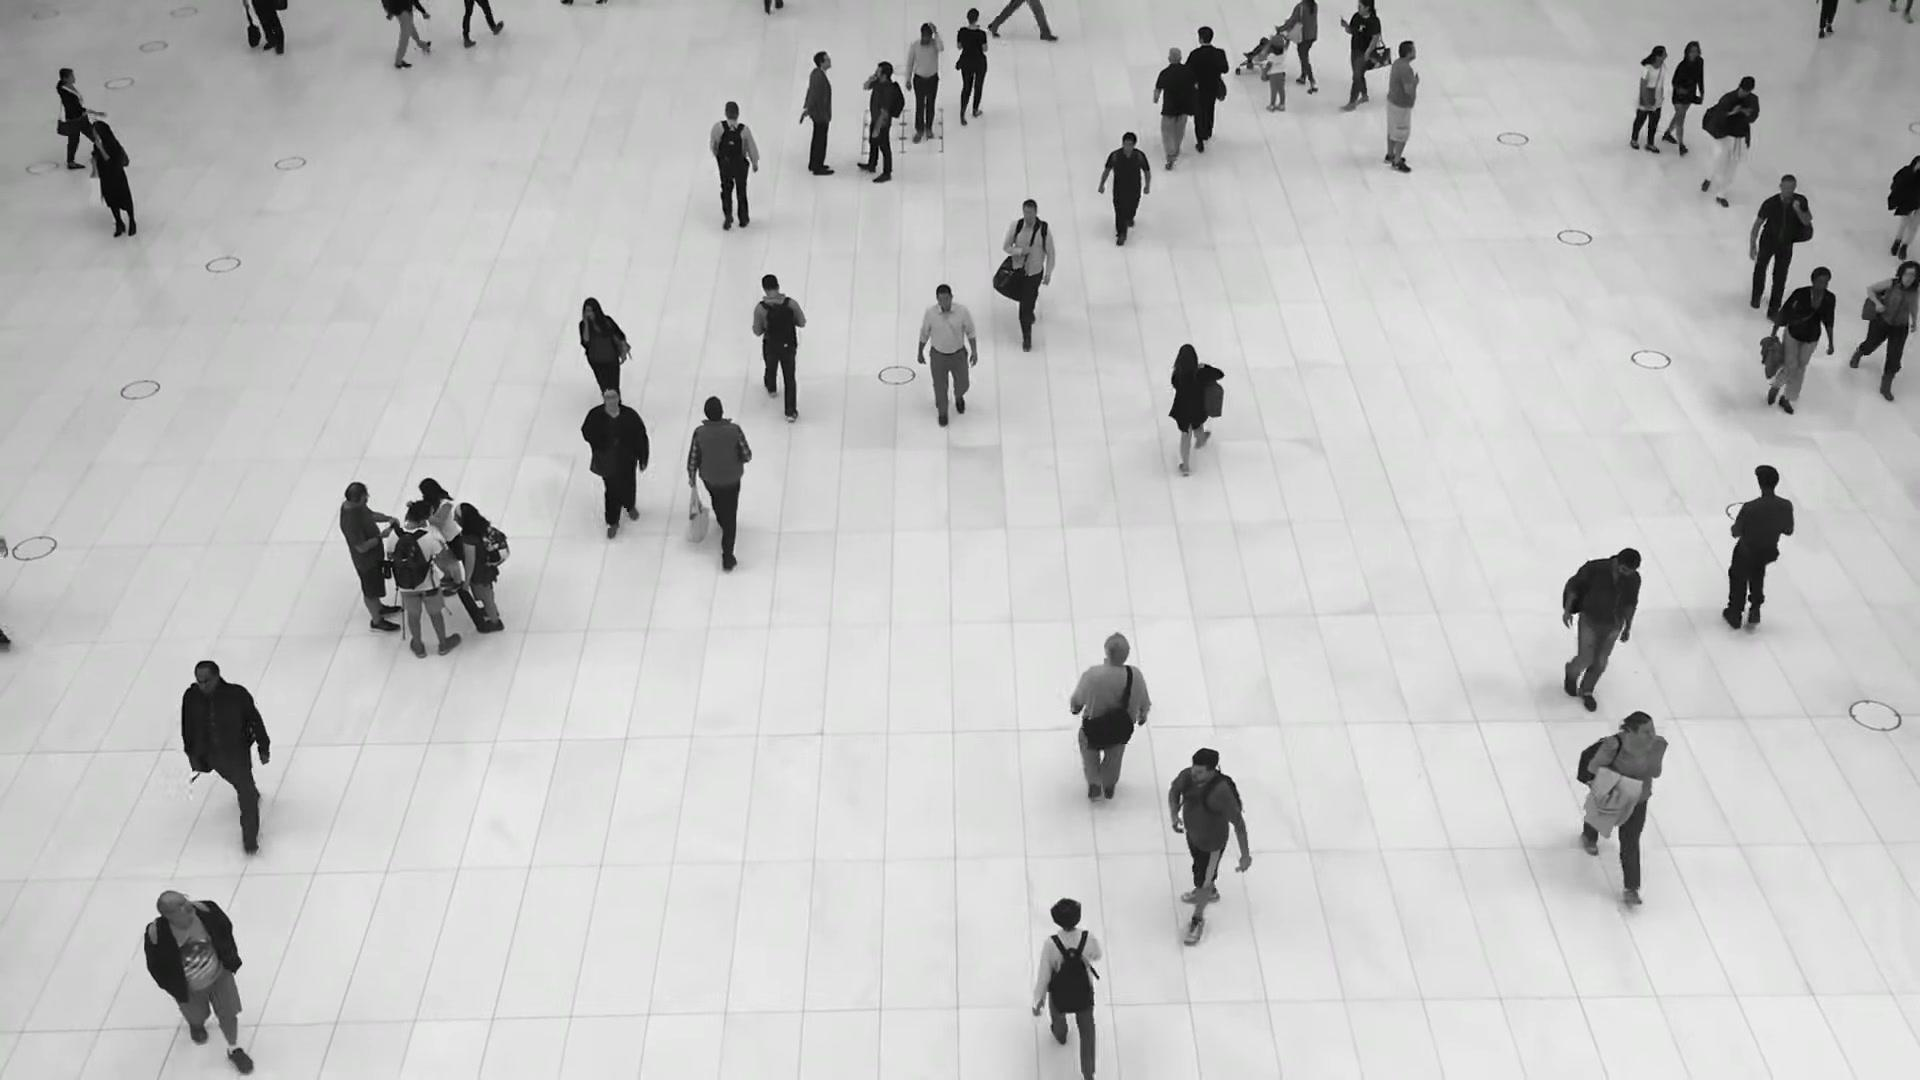person: (143, 889, 254, 1075), (1577, 710, 1668, 907), (180, 659, 269, 851), (1168, 747, 1248, 941), (1069, 631, 1151, 806), (1563, 549, 1643, 716), (1031, 897, 1104, 1076), (1718, 464, 1793, 629), (386, 502, 460, 658), (687, 394, 752, 569), (1764, 267, 1836, 418), (579, 384, 650, 534), (1850, 261, 1920, 402), (338, 481, 400, 633), (1748, 173, 1813, 318), (917, 284, 978, 429), (751, 272, 806, 420), (1700, 76, 1759, 209), (1003, 199, 1055, 349), (1169, 342, 1224, 474), (453, 502, 509, 634), (708, 101, 760, 233), (1098, 131, 1152, 247), (856, 61, 904, 183), (578, 296, 631, 403), (1184, 25, 1229, 151), (1152, 47, 1198, 171), (91, 120, 136, 238), (1382, 39, 1420, 173), (418, 477, 459, 597), (1337, 0, 1381, 112), (904, 20, 944, 140), (1663, 40, 1704, 155), (799, 50, 834, 176), (1630, 45, 1670, 152), (56, 66, 96, 167), (955, 8, 988, 127), (1280, 0, 1318, 94), (1262, 35, 1287, 111)
